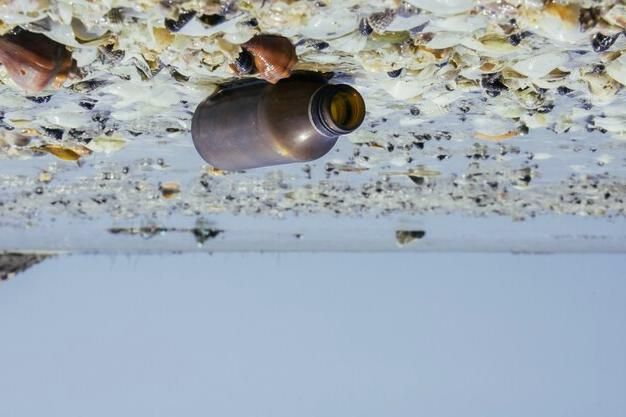Glass: (187, 75, 367, 176)
